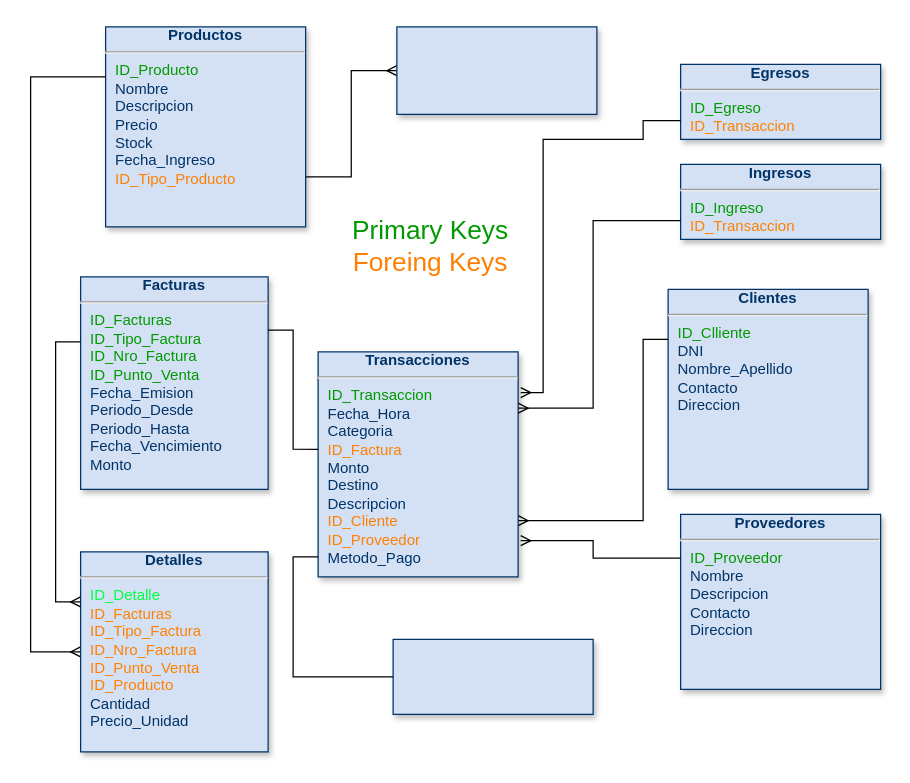
Image size: 910x783. Some labels were removed from this diagram. Each missing label, with the centre of its shape:
"Metodos_Pagos ID_Metodo_Pago Descripcion" goes at (x=494, y=678).
"Tipos_Productos ID_Tipo_Producto Detalle" goes at (x=497, y=72).
